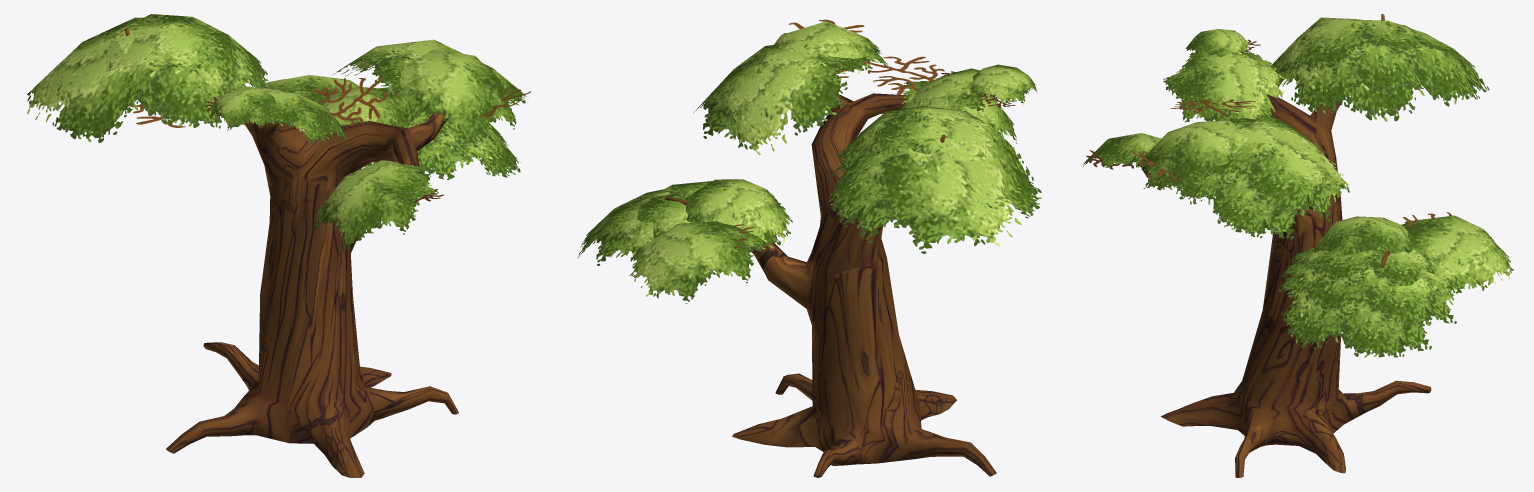
The model's file is tree_2.fbx.
The picture shows the model from 3 angles, left to right: view 1: azimuth 30°, elevation 25°; view 2: azimuth 150°, elevation 25°; view 3: azimuth 270°, elevation 25°; orthographic projection. The views are drawn at different scales.
Parts seen in each view (by area): view 1: oak_with_leaves; view 2: oak_with_leaves; view 3: oak_with_leaves.
Part boxes in pixels (<box>): oak_with_leaves: <box>27,14,530,477</box>; oak_with_leaves: <box>577,19,1041,477</box>; oak_with_leaves: <box>1083,14,1513,477</box>.
Bounding box in the file's own units: 1003 × 804 × 886.
